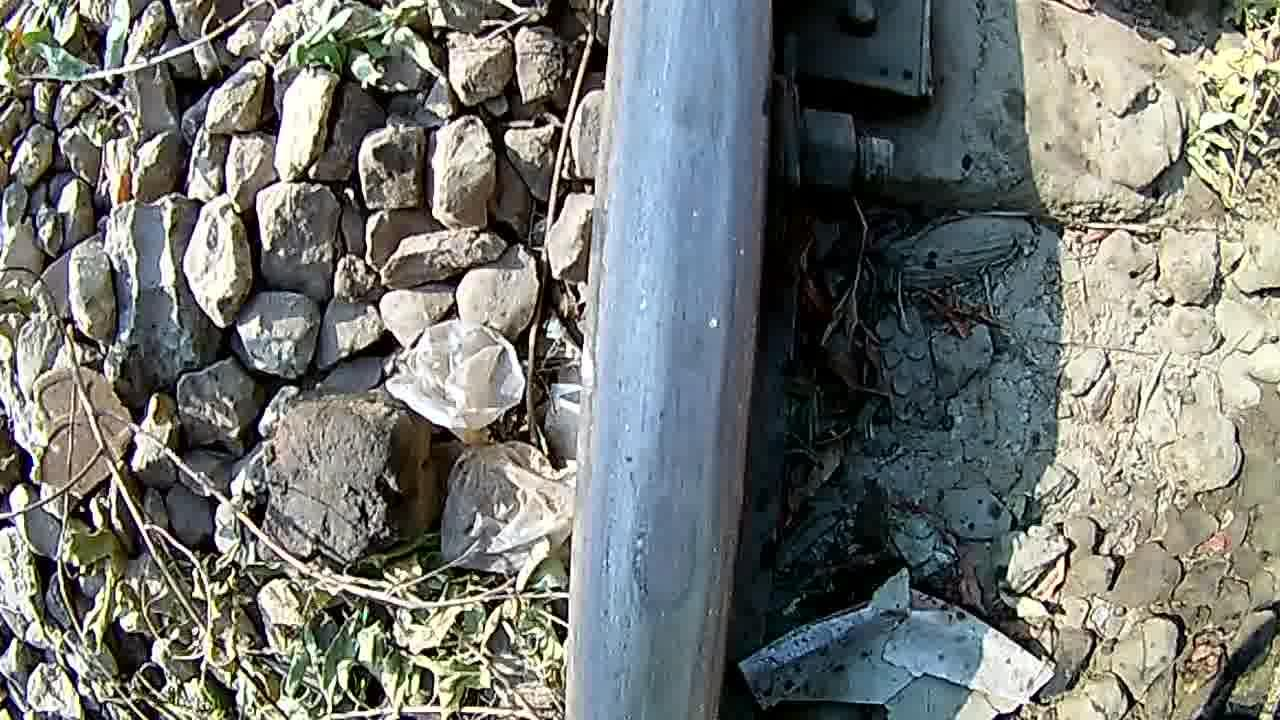bolt_missing: (606, 8, 760, 708)
